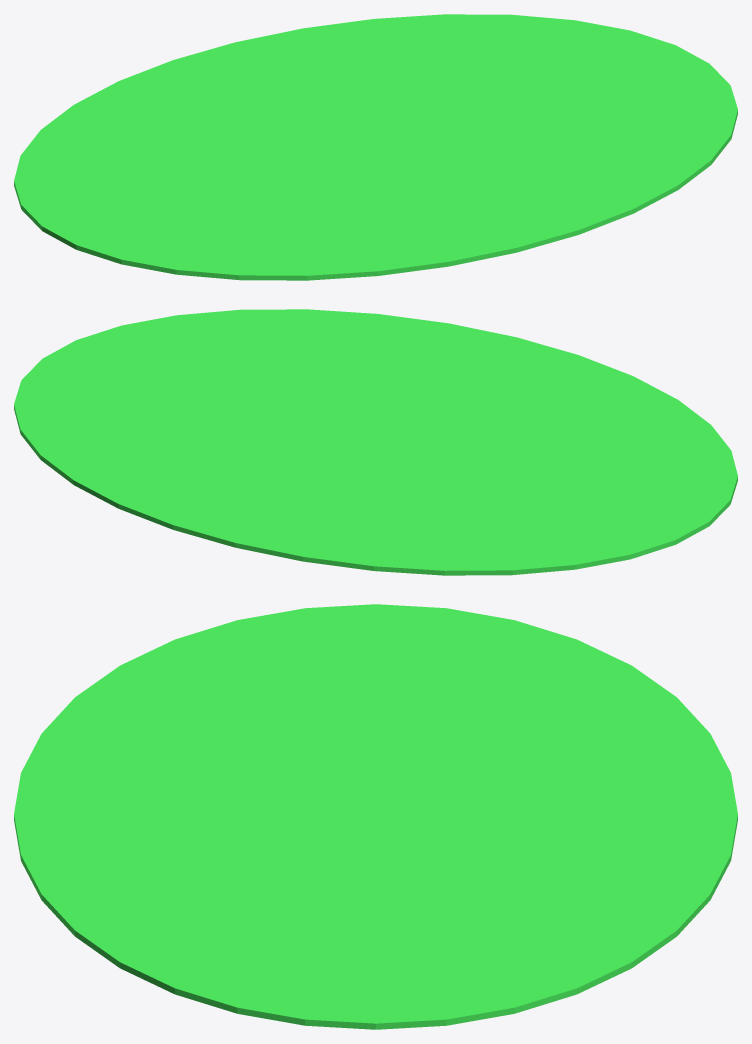
The model's file is dodai2222222.glb.
The picture shows the model from 3 angles, top to bottom: view 1: azimuth 30°, elevation 25°; view 2: azimuth 150°, elevation 25°; view 3: azimuth 270°, elevation 25°; orthographic projection. The views are drawn at different scales.
Visible parts, largest first — view 1: 土台; view 2: 土台; view 3: 土台.
Boxes of the visible parts, x1,y1,x2,y2 form: 土台: (14, 14, 737, 280); 土台: (14, 309, 737, 575); 土台: (14, 604, 737, 1029).
Bounding box in the file's own units: 61.46 × 0.4218 × 44.83.
Materials: 1 (1 with a texture image).
